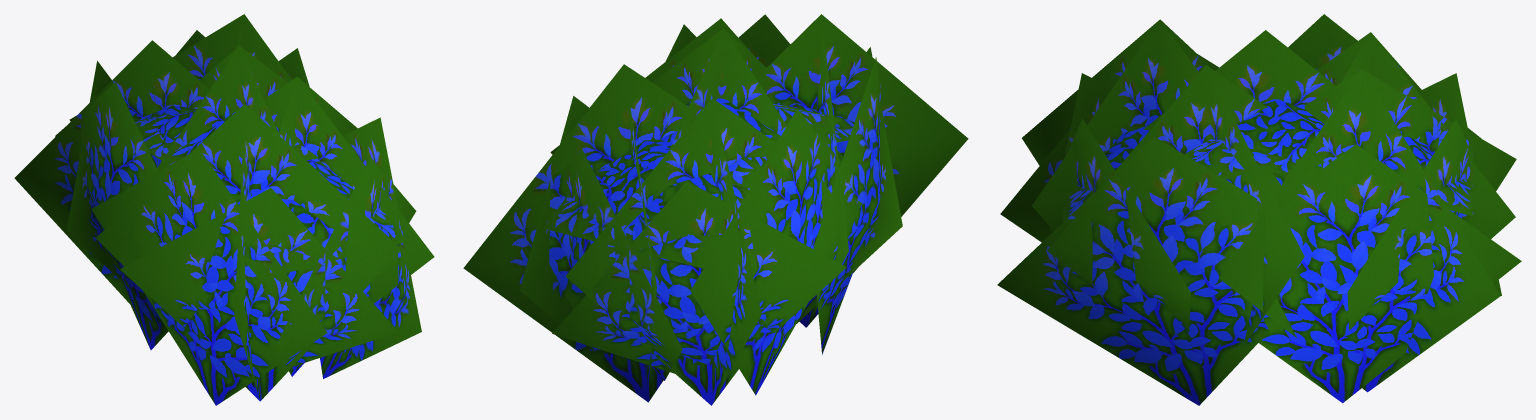
Rendered from Homeworld_Exterior_Cyg_Plant_Grass_Chatian_01_Vo.fbx.
3 views of the same model, side by side, from view 1: azimuth 30°, elevation 25°; view 2: azimuth 150°, elevation 25°; view 3: azimuth 270°, elevation 25° (orthographic). The views are drawn at different scales.
Visible parts, largest first — view 1: Area_Cyg_Grass_Common_Shrub_03_Vo; view 2: Area_Cyg_Grass_Common_Shrub_03_Vo; view 3: Area_Cyg_Grass_Common_Shrub_03_Vo.
Part boxes in pixels (x1,y1,x2,y2): Area_Cyg_Grass_Common_Shrub_03_Vo: (14, 14, 434, 405); Area_Cyg_Grass_Common_Shrub_03_Vo: (463, 14, 968, 405); Area_Cyg_Grass_Common_Shrub_03_Vo: (997, 14, 1521, 405).
Size of the model in its own units: 1.94 by 2.07 by 2.82.
Materials: 1 (1 with a texture image).
